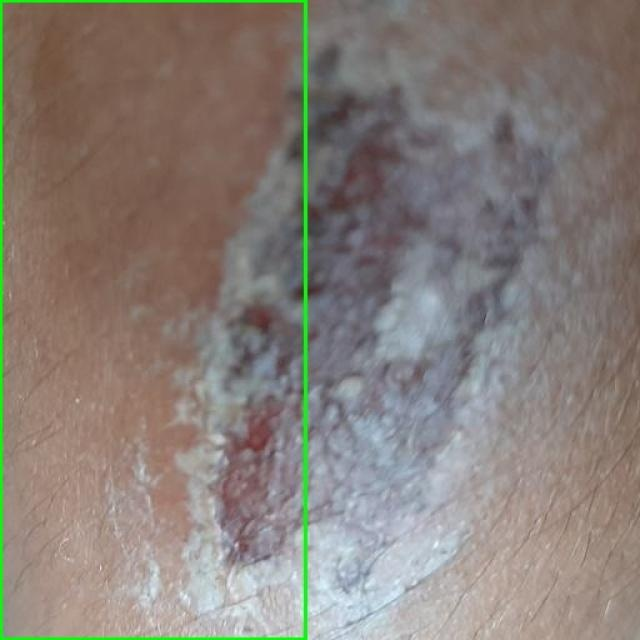Atopic Dermatitis: (0, 0, 305, 639)
